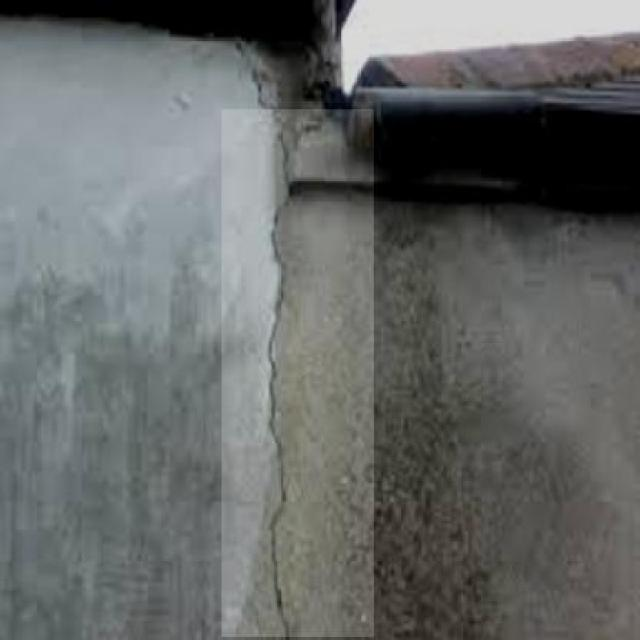Crack: (249, 123, 325, 640)
